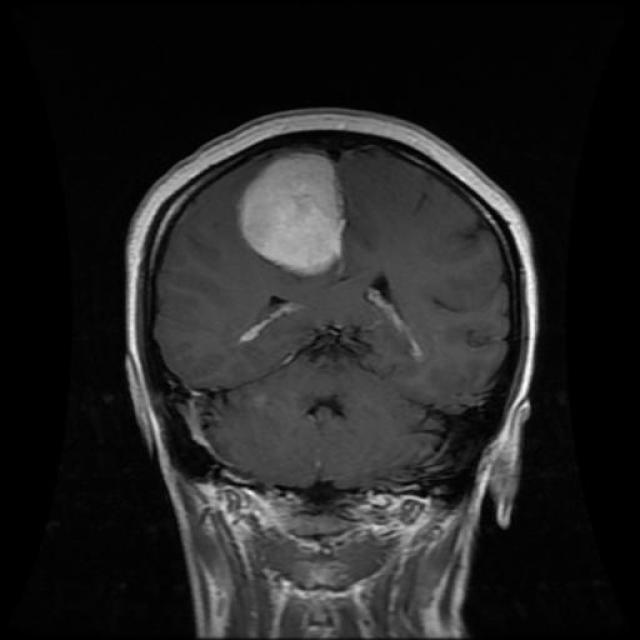Tumor: (238, 152, 352, 284)
